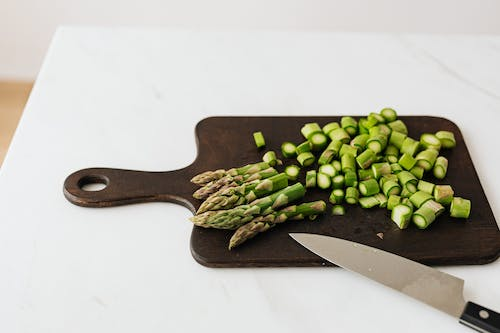knife: (287, 232, 500, 333)
